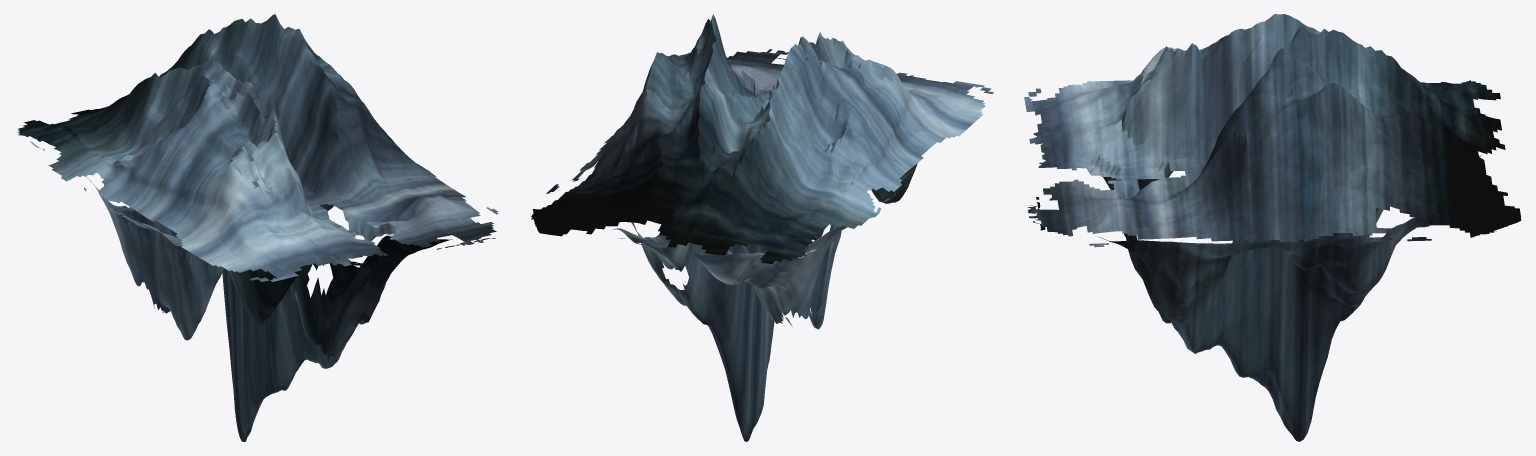
File: Berg1.gltf
The picture shows the model from 3 angles, left to right: view 1: azimuth 30°, elevation 25°; view 2: azimuth 150°, elevation 25°; view 3: azimuth 270°, elevation 25°; orthographic projection. The views are drawn at different scales.
Visible parts, largest first — view 1: Landscape.1; view 2: Landscape.1; view 3: Landscape.1.
Boxes of the visible parts, bbox=[...] form: Landscape.1: bbox=[18, 14, 498, 441]; Landscape.1: bbox=[531, 14, 993, 441]; Landscape.1: bbox=[1024, 14, 1521, 441].
Size of the model in its own units: 5343 by 6861 by 7155.
Materials: 1 (1 with a texture image).
